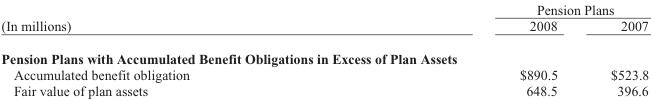table: (0, 1, 648, 98)
table column: (0, 1, 353, 98), (353, 1, 583, 98), (583, 1, 648, 98)
table column header: (0, 1, 648, 41)
table projected row header: (0, 41, 648, 66)
table row: (0, 41, 648, 66), (0, 17, 648, 41), (0, 1, 648, 17), (0, 66, 648, 82), (0, 82, 648, 98)
table spanning cell: (0, 1, 353, 41), (353, 1, 648, 17)
